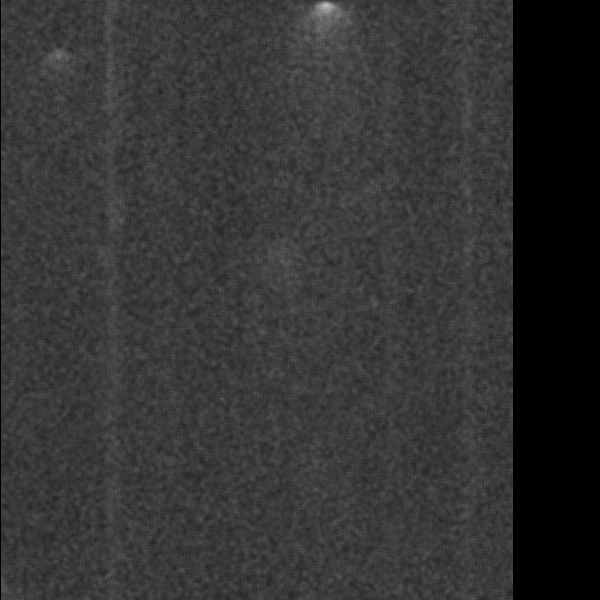spark: (311, 1, 344, 47), (43, 42, 70, 74)
